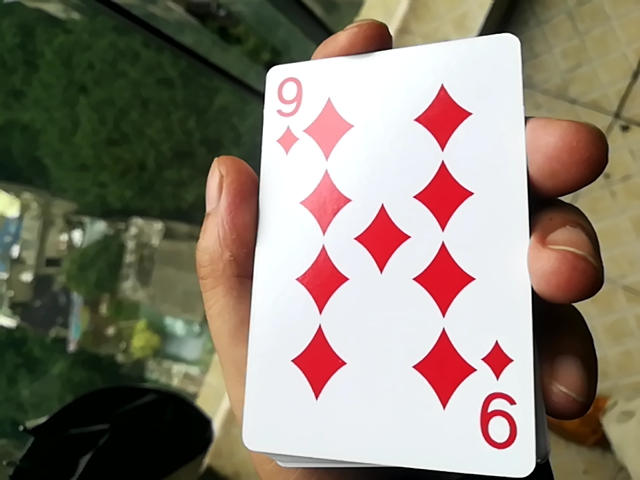fk 9: (236, 23, 534, 478)
